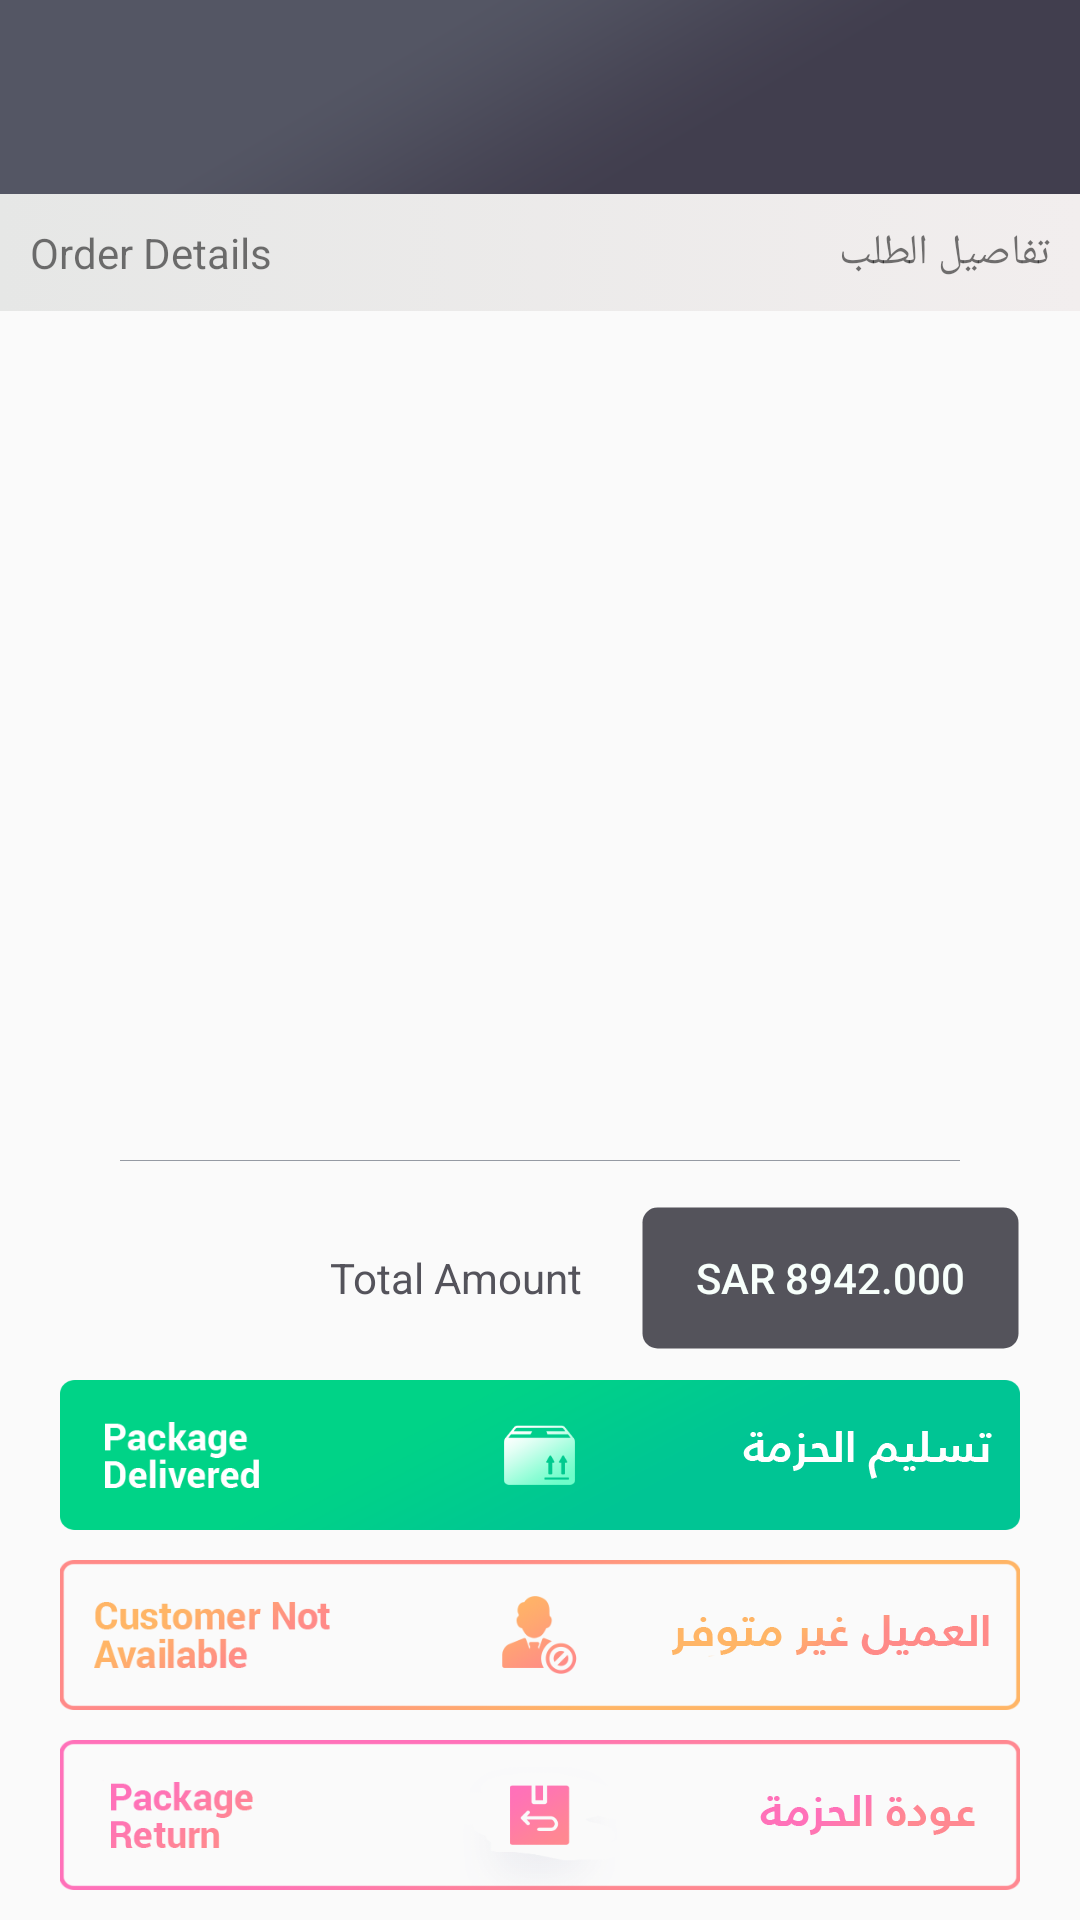

Locate icon controls on the screen. Image size 1080px×1920px, boxes as (x1, y1, x2, y2).
customer not available: (502, 1596, 577, 1674)
package return: (510, 1785, 570, 1845)
